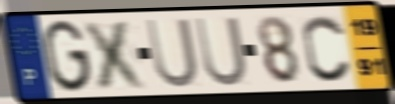8: (256, 14, 301, 86)
C: (300, 13, 354, 84)
G: (42, 18, 94, 95)
U: (143, 16, 201, 90), (192, 15, 250, 89)
X: (80, 17, 151, 90)
